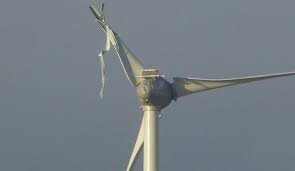faulty: (84, 3, 200, 128)
